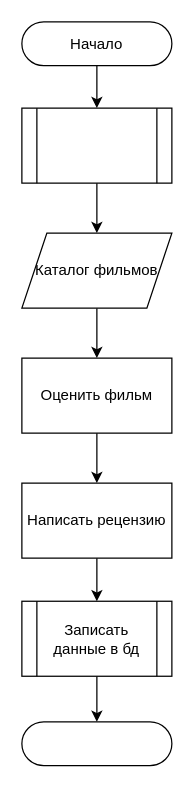
The diagram is 194 pixels wide and 788 high, and some of its shapes have lost their labels. Each missing label, with the centre of its shape:
Авторизация: the point at 96,145
Конец: the point at 96,743
